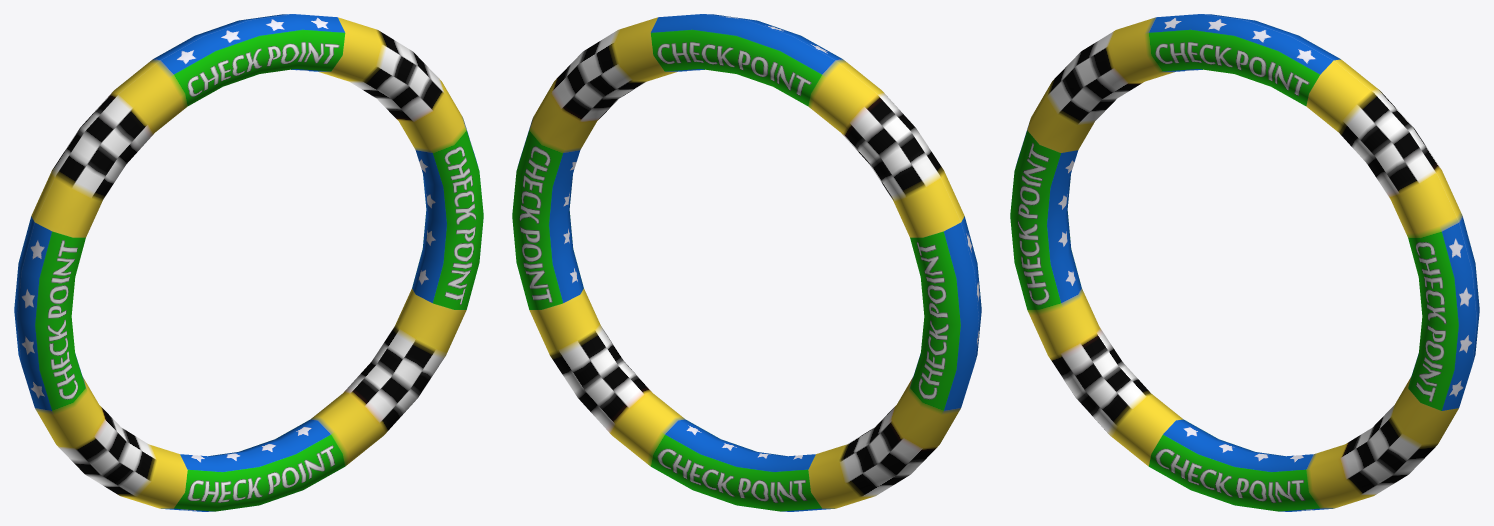
The model's file is CheckPoint_Anim.FBX.
3 views of the same model, side by side, from view 1: azimuth 30°, elevation 25°; view 2: azimuth 150°, elevation 25°; view 3: azimuth 330°, elevation 25° (orthographic).
Parts seen in each view (by area): view 1: CheckPointPlane; view 2: CheckPointPlane; view 3: CheckPointPlane.
Part boxes in pixels (box(x1,y1,x2,y2)): CheckPointPlane: box(14, 14, 483, 511); CheckPointPlane: box(512, 14, 981, 511); CheckPointPlane: box(1010, 14, 1479, 511).
Size of the model in its own units: 28.26 by 28.26 by 3.14.
